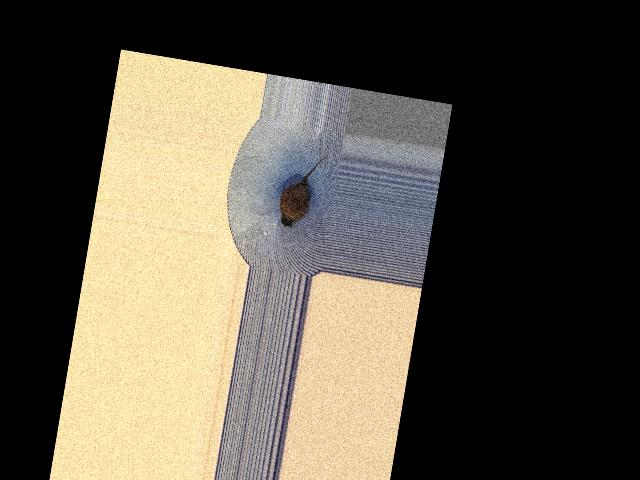beet: (276, 151, 327, 232)
